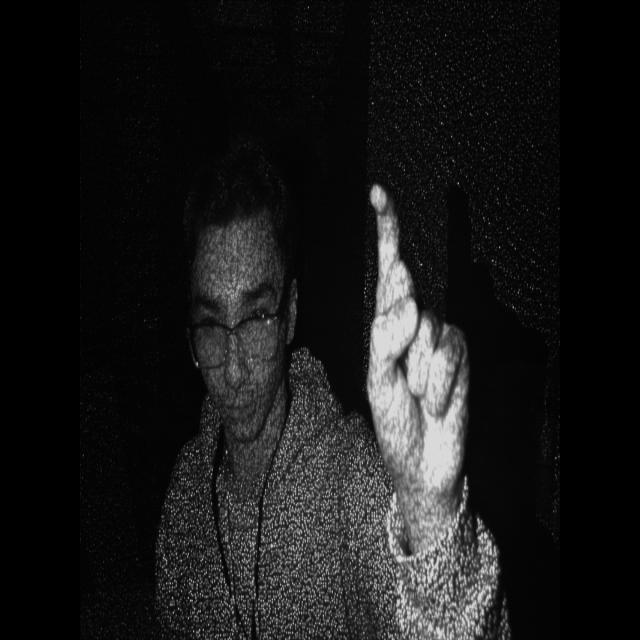X: (356, 174, 476, 497)
